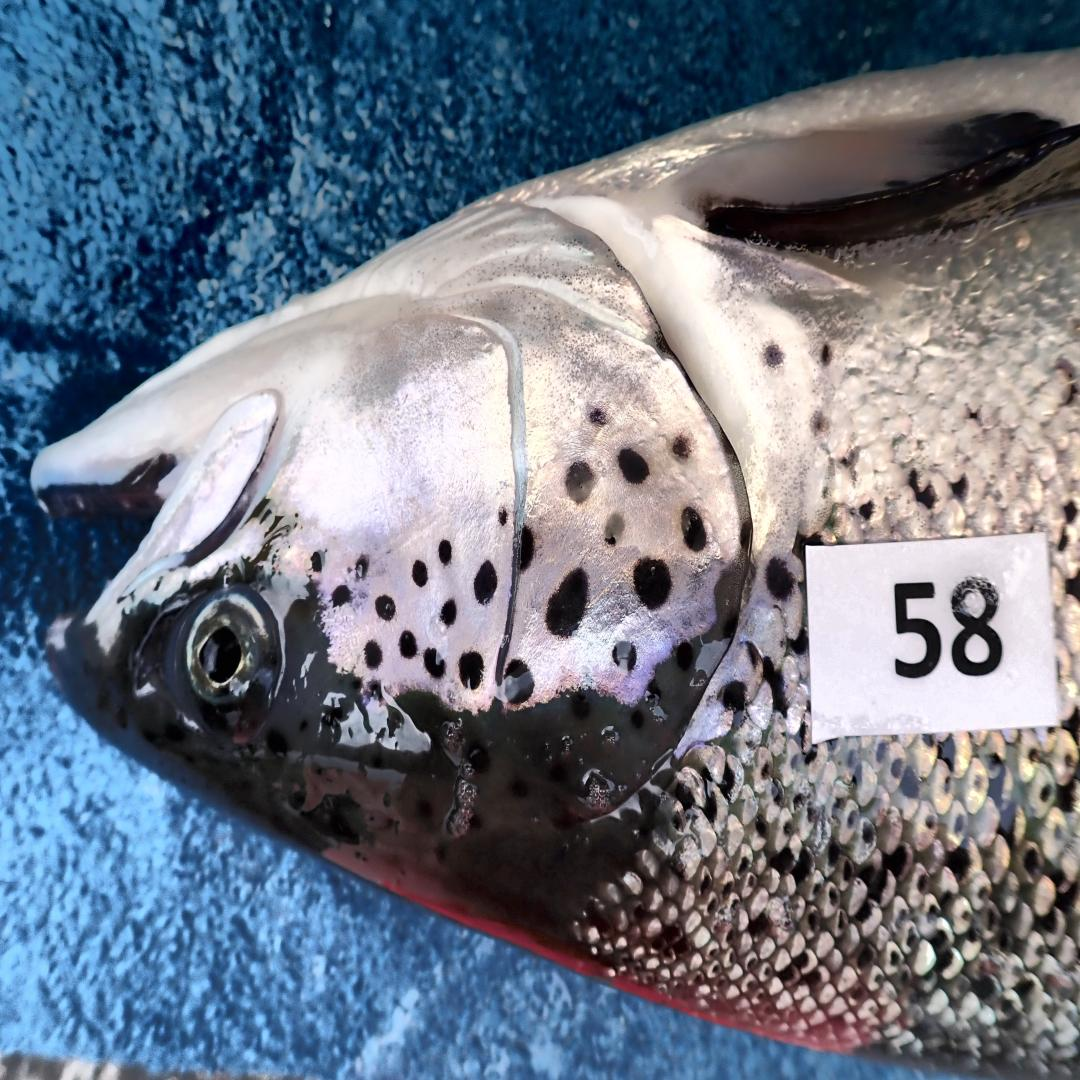spot: (545, 567, 588, 637), (633, 557, 671, 609), (501, 659, 534, 703), (565, 459, 595, 504), (681, 507, 707, 551), (617, 448, 649, 483), (458, 651, 484, 690), (474, 560, 497, 604), (612, 640, 637, 672), (604, 513, 625, 546), (423, 648, 445, 678), (520, 525, 534, 572), (375, 594, 396, 621), (364, 640, 382, 669), (399, 630, 417, 658), (672, 434, 691, 459), (412, 559, 428, 587), (440, 599, 456, 626), (332, 585, 351, 607), (438, 539, 451, 564), (311, 550, 325, 573), (355, 555, 369, 576), (589, 408, 605, 426), (498, 508, 507, 525)
